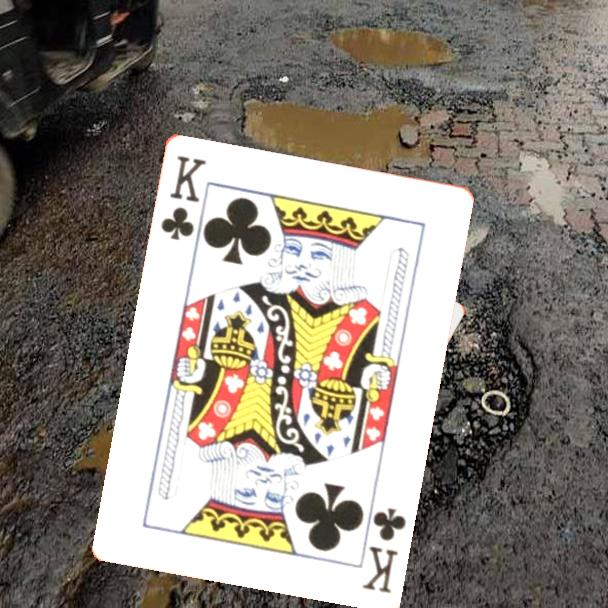c13: (157, 151, 209, 243), (358, 503, 409, 596)
